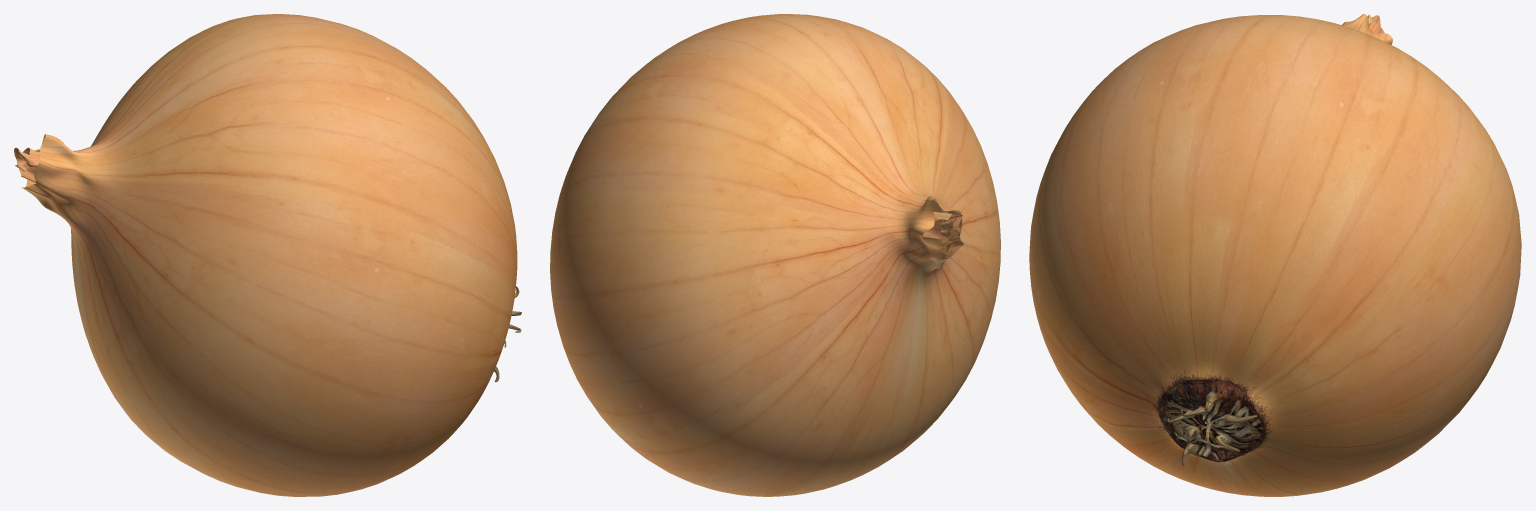
File: Onion.obj
The picture shows the model from 3 angles, left to right: view 1: azimuth 30°, elevation 25°; view 2: azimuth 150°, elevation 25°; view 3: azimuth 270°, elevation 25°; orthographic projection.
Visible parts, largest first — view 1: Onion_02; view 2: Onion_02; view 3: Onion_02.
Part boxes in pixels (x1,y1,x2,y2): Onion_02: (14,14,521,496); Onion_02: (550,14,1000,496); Onion_02: (1029,14,1521,496).
Bounding box in the file's own units: 2 × 2 × 2.
Materials: 1 (1 with a texture image).
